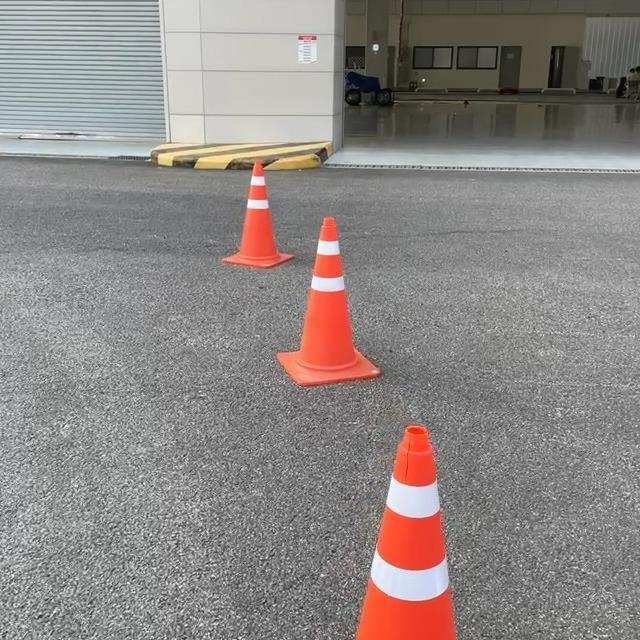fallen_object: (357, 423, 581, 640), (282, 216, 394, 411), (227, 160, 289, 275)
